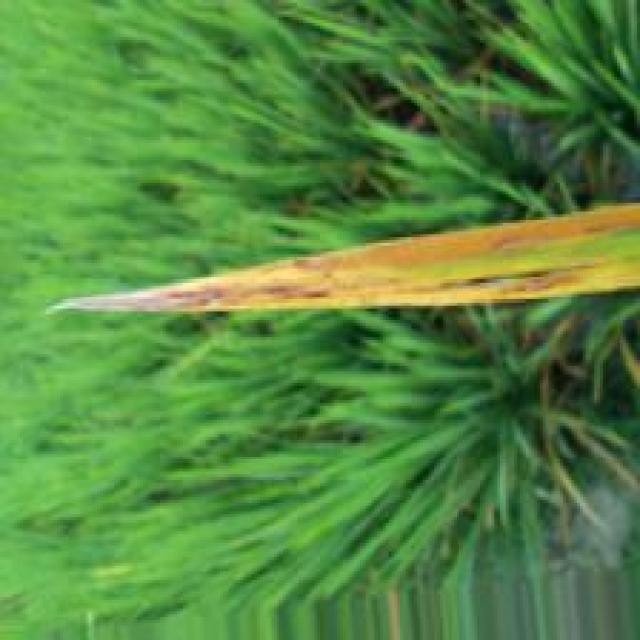Bacterial_Leaf_Blight: (43, 197, 640, 316)
